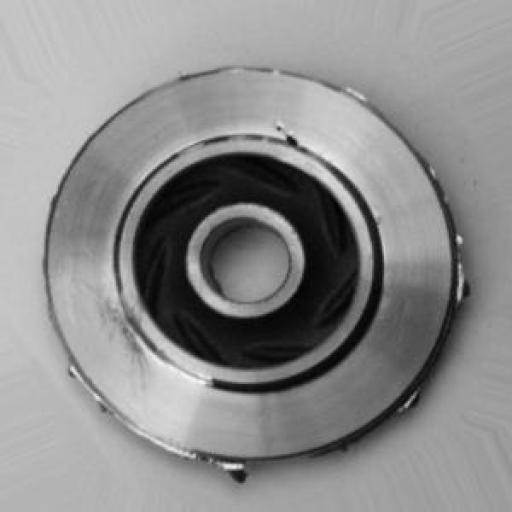defect: (22, 240, 502, 486), (246, 103, 357, 174)
